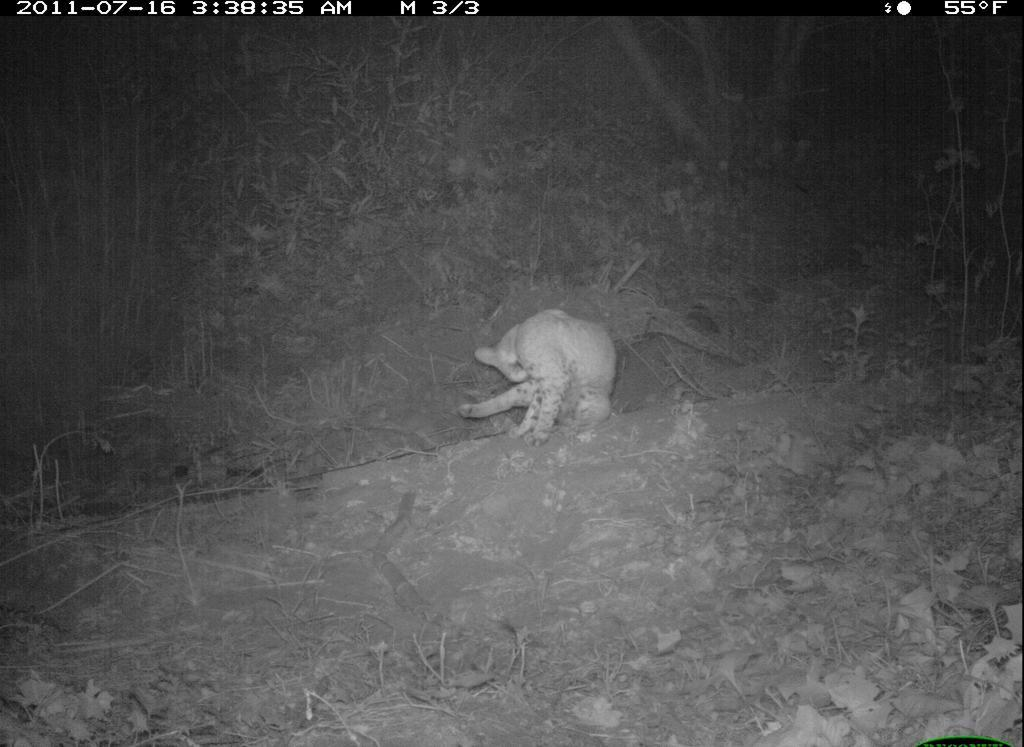bobcat: (454, 304, 635, 449)
